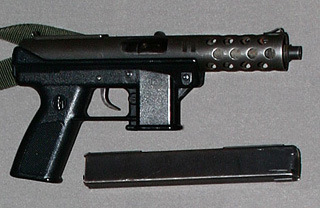pistol: (7, 14, 297, 191)
